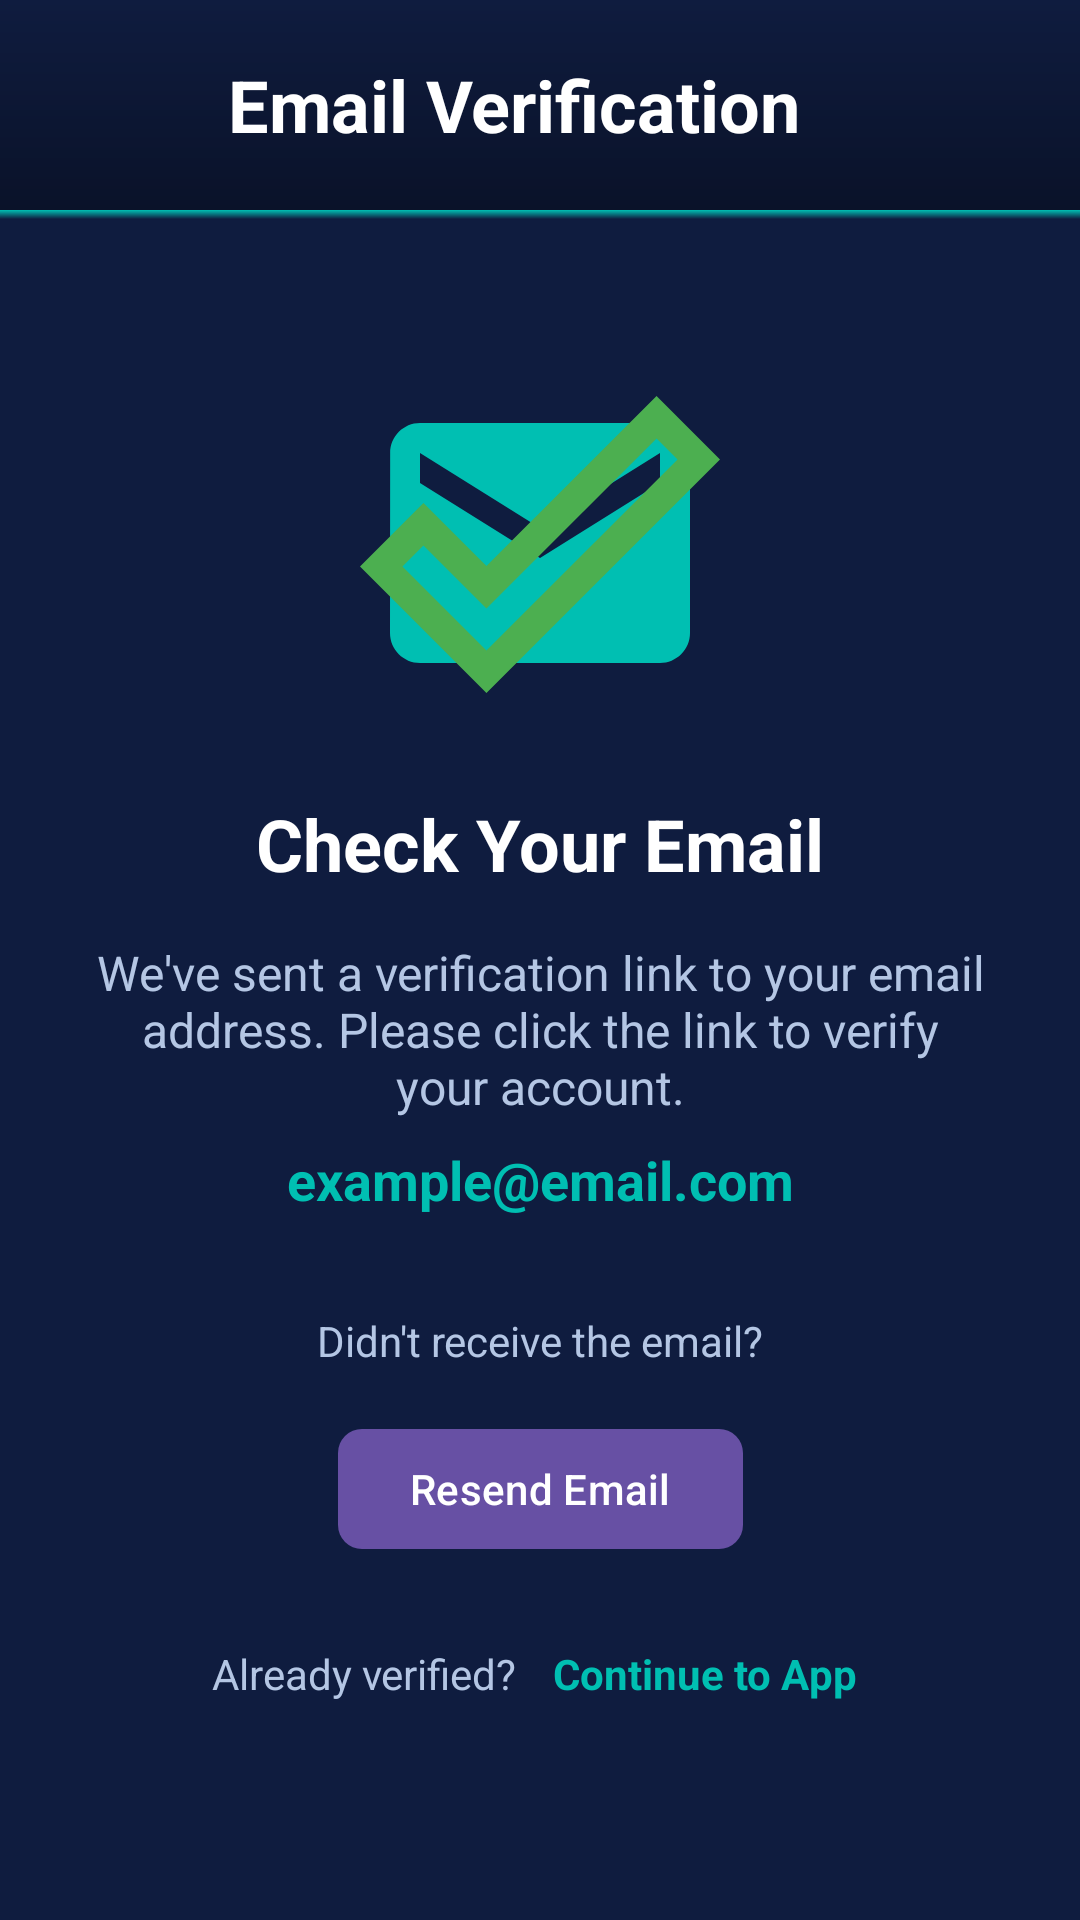

Where icons sit on this 1080px x 1920px app screen, as {"x1": x1, "y1": y1, "x2": x2, "y2": y2}:
Email Verification: {"x1": 360, "y1": 396, "x2": 720, "y2": 693}
